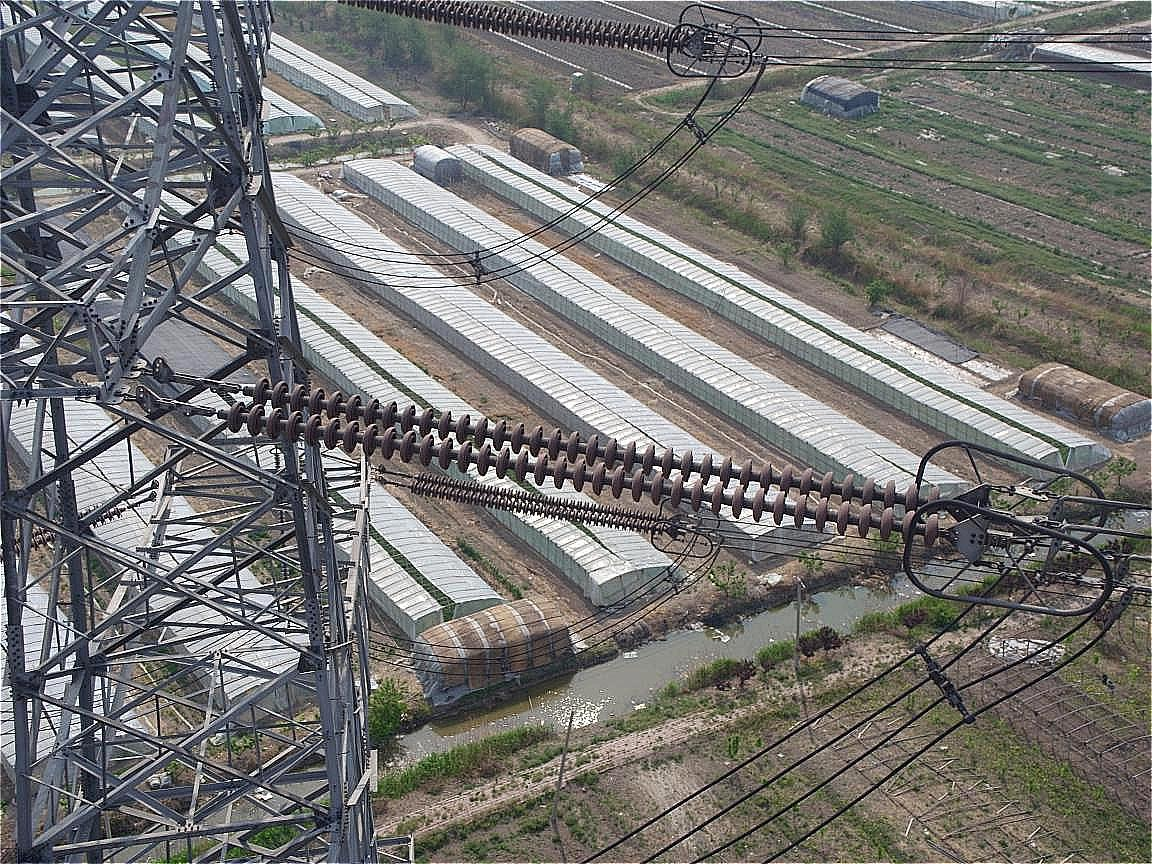insultor1: (211, 372, 968, 542)
insultor2: (279, 1, 713, 65), (392, 471, 702, 545)
